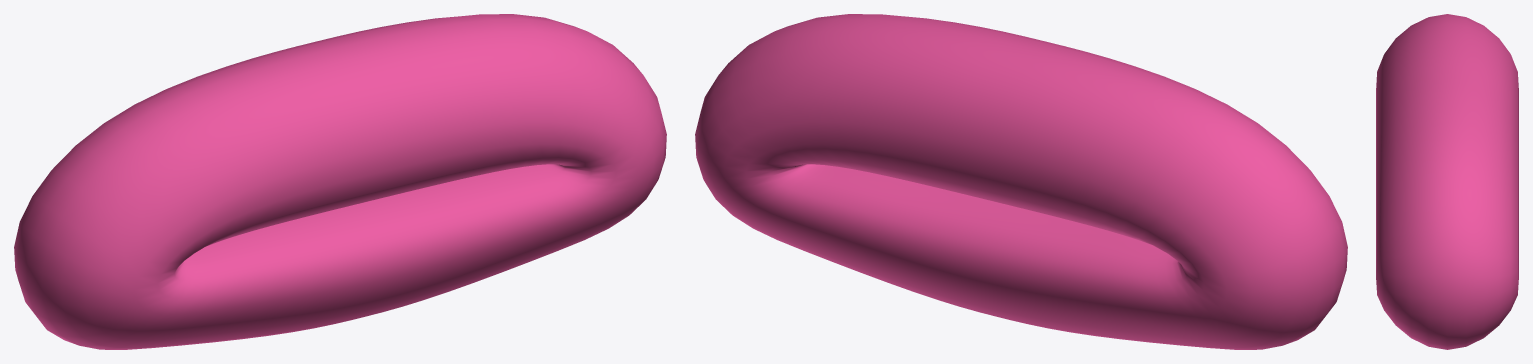
The model's file is Mouth.fbx.
3 renders of one model, left to right at view 1: azimuth 30°, elevation 25°; view 2: azimuth 150°, elevation 25°; view 3: azimuth 270°, elevation 25°, orthographic. The views are drawn at different scales.
Visible parts, largest first — view 1: Mouth; view 2: Mouth; view 3: Mouth.
Part boxes in pixels (x1,y1,x2,y2): Mouth: (14,14,666,349); Mouth: (695,14,1347,349); Mouth: (1376,14,1518,349).
Bounding box in the file's own units: 15.04 × 6.15 × 3.87.
